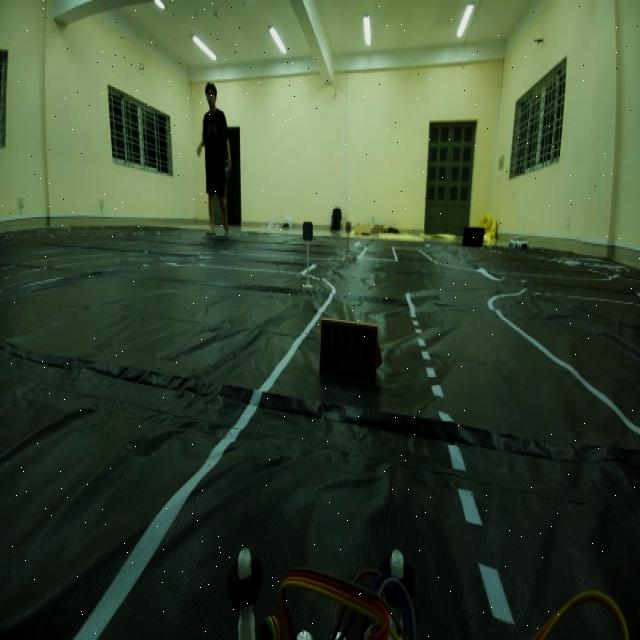roadblock: (317, 303, 390, 397)
